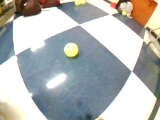Ball: (62, 41, 79, 56), (74, 1, 82, 6)
